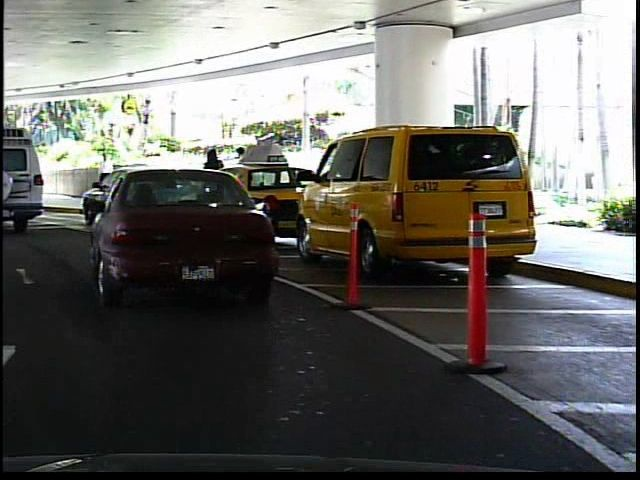person: (199, 142, 231, 207), (233, 139, 259, 207), (94, 146, 117, 202), (24, 155, 44, 198)
